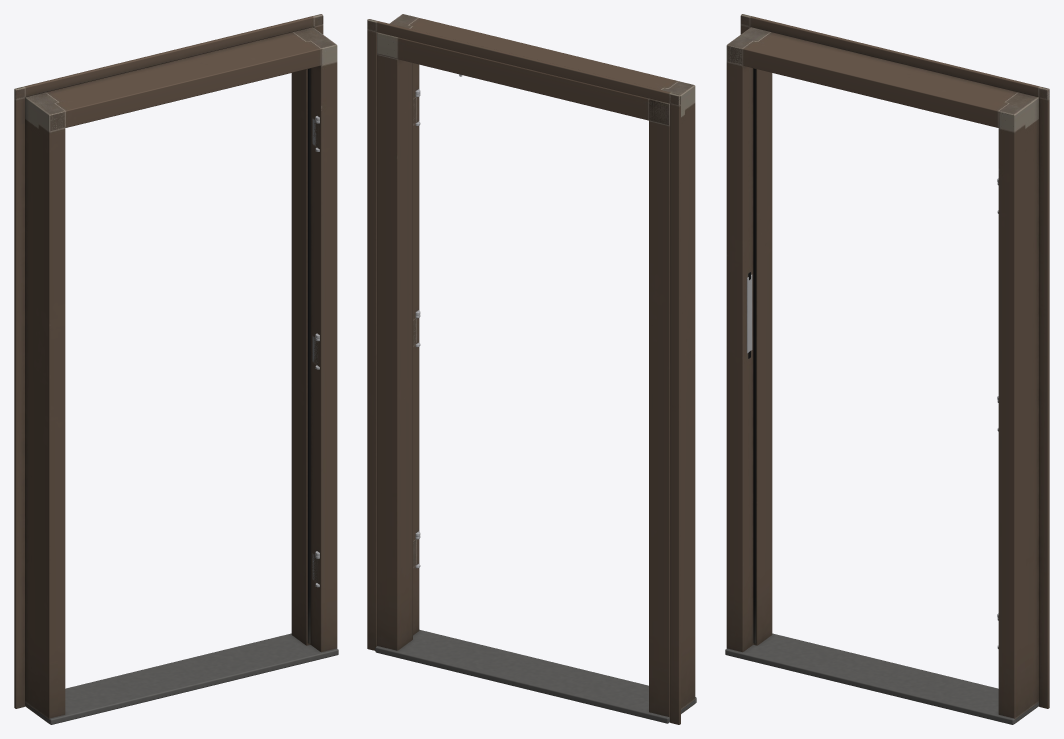
Rendered from HomeDoorFrame.fbx.
The picture shows the model from 3 angles, left to right: view 1: azimuth 30°, elevation 25°; view 2: azimuth 150°, elevation 25°; view 3: azimuth 330°, elevation 25°; orthographic projection.
Visible parts, largest first — view 1: HomeDoorFrame; view 2: HomeDoorFrame; view 3: HomeDoorFrame.
Part boxes in pixels (<box>): HomeDoorFrame: <box>14,14,338,724</box>; HomeDoorFrame: <box>367,14,696,724</box>; HomeDoorFrame: <box>725,14,1049,724</box>.
Bounding box in the file's own units: 1.11 × 2.13 × 0.18.
